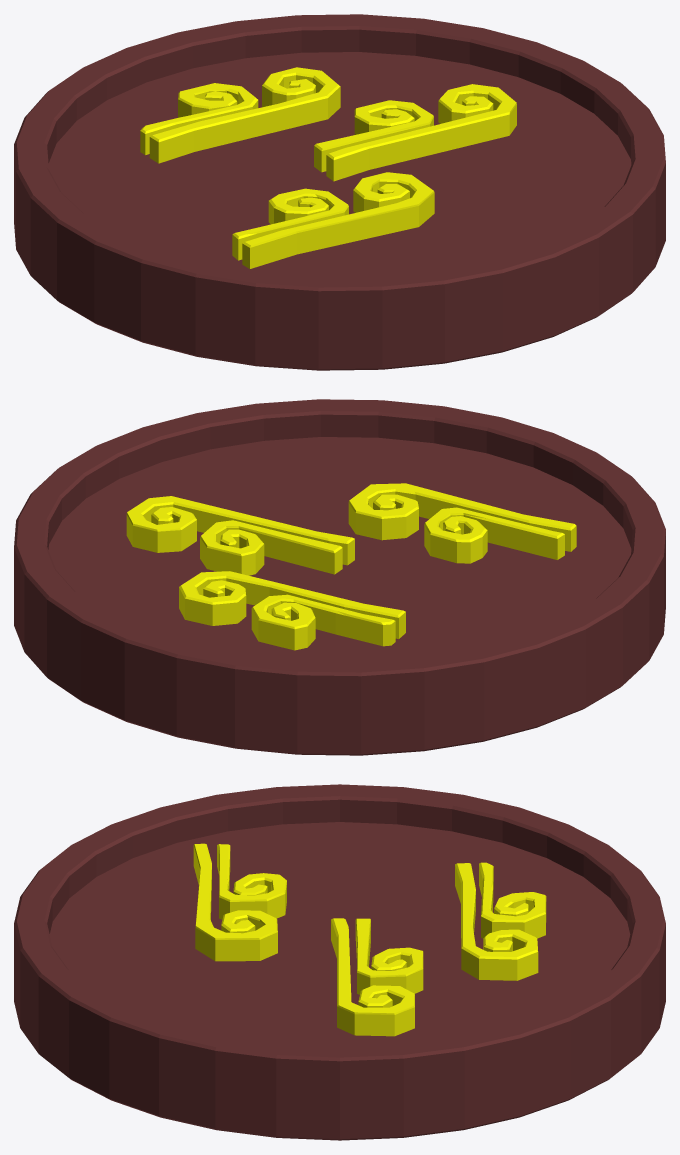
The model's file is JumpAmountCoin.fbx.
The picture shows the model from 3 angles, top to bottom: view 1: azimuth 30°, elevation 25°; view 2: azimuth 150°, elevation 25°; view 3: azimuth 270°, elevation 25°; orthographic projection.
Parts seen in each view (by area): view 1: Coin; view 2: Coin; view 3: Coin.
Boxes of the visible parts, x1=… form: Coin: x1=14, y1=14, x2=665, y2=370; Coin: x1=14, y1=399, x2=665, y2=755; Coin: x1=14, y1=784, x2=665, y2=1140.
Bounding box in the file's own units: 200 × 28.06 × 200.
